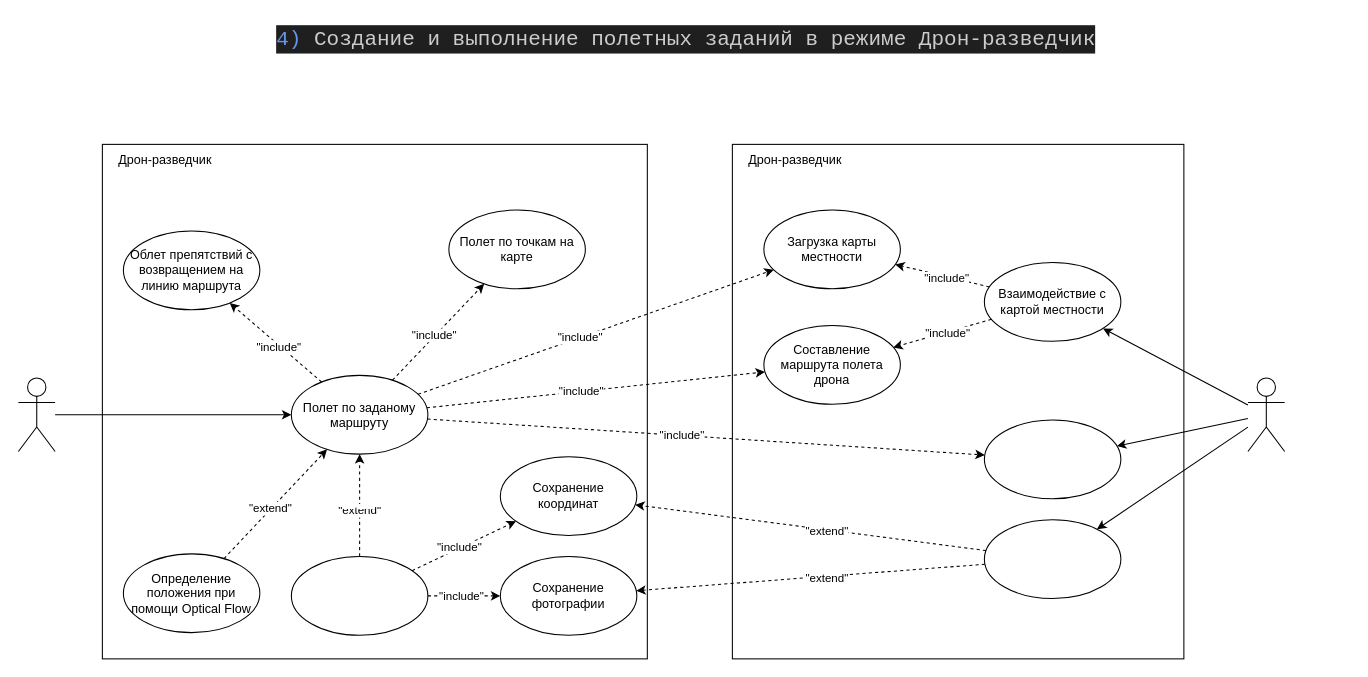
Image size: 1368x677. Some labels were removed from this diagram. Each missing label, with the box of its shape:
Анализ видеопотока при помощи машинного зрения: (290, 555, 428, 635)
Дрон: (17, 377, 55, 452)
Запуск миссии: (983, 419, 1121, 499)
Оператор наземной станции: (1247, 377, 1285, 452)
Просмотр результатов миссии: (983, 519, 1121, 598)
